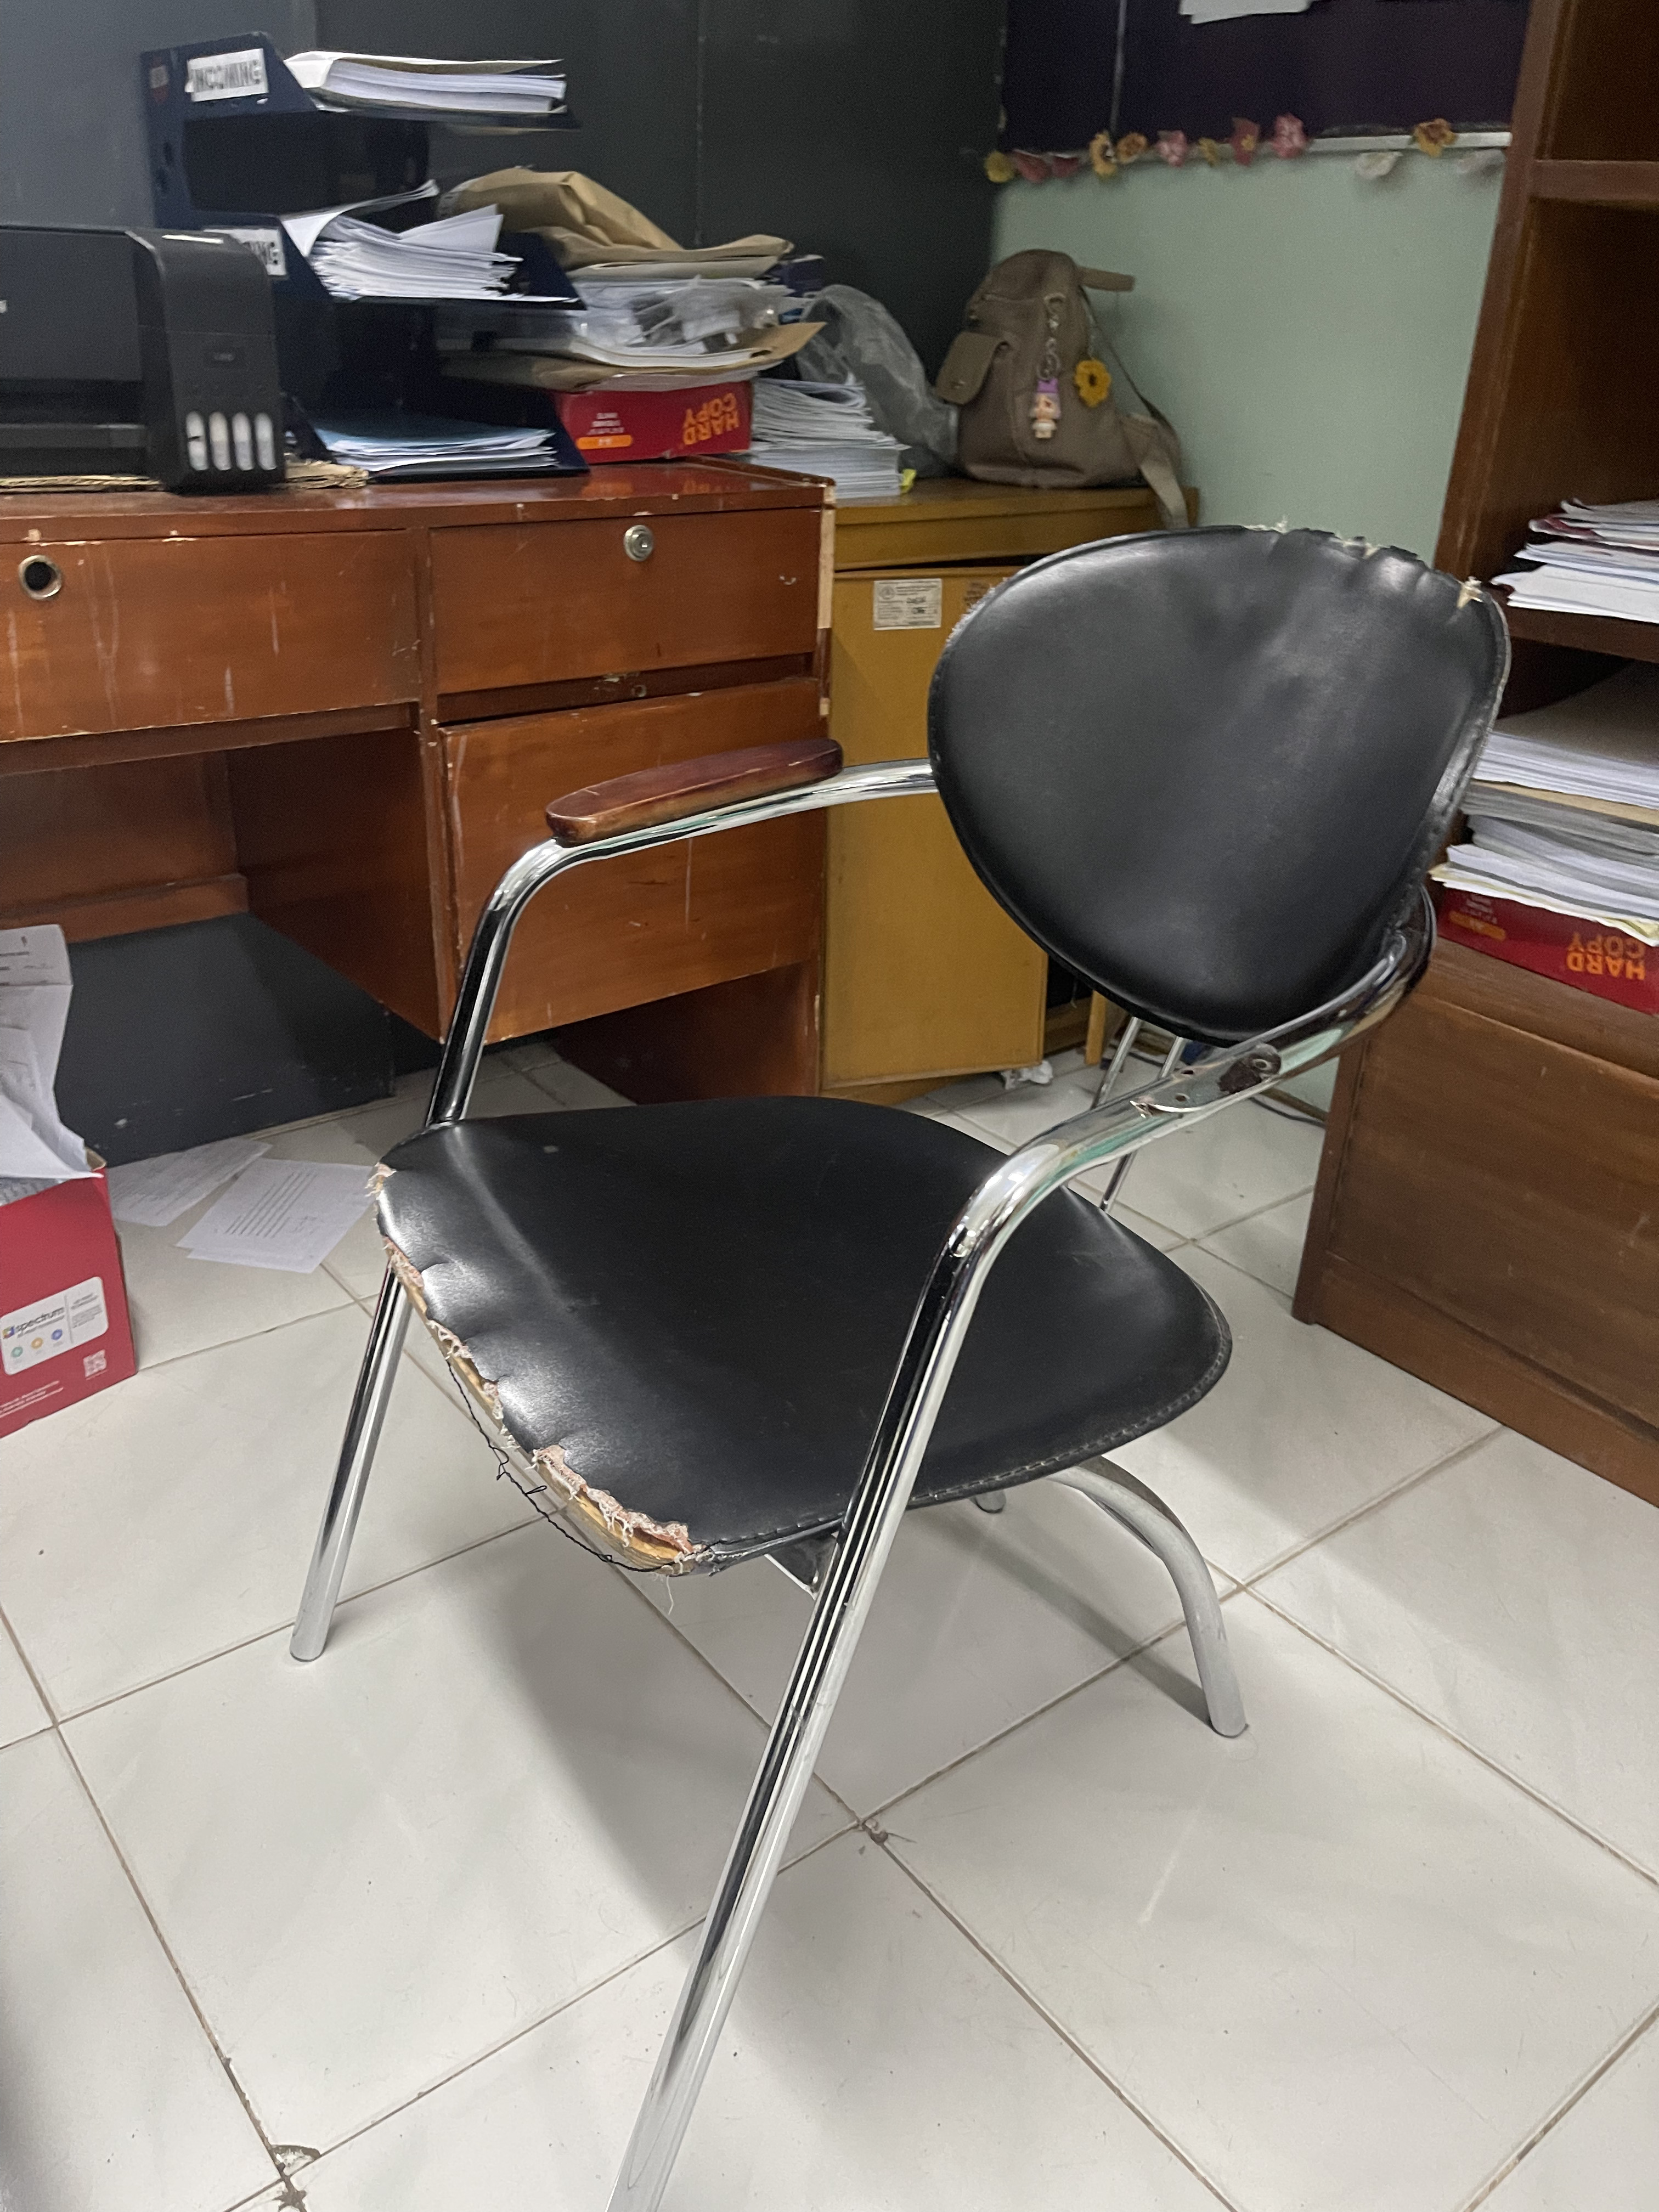chair1: (288, 512, 1521, 2212)
